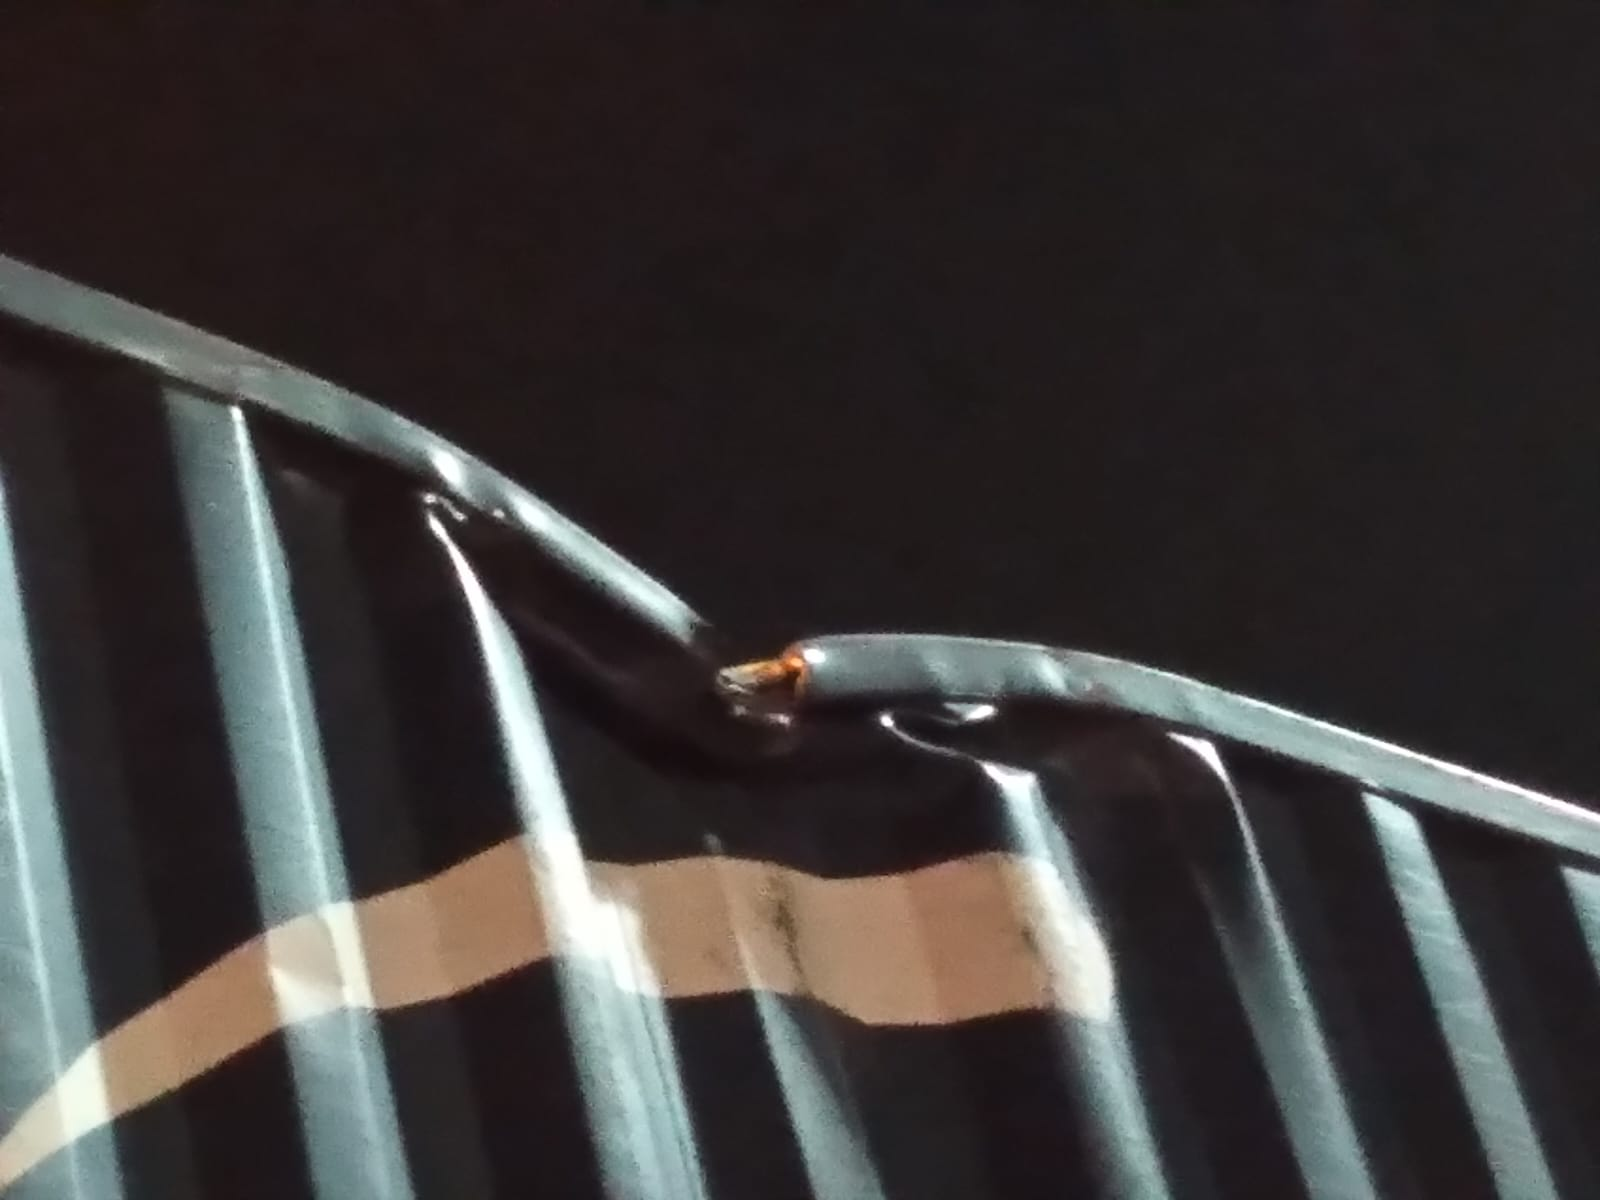severe: (462, 543, 1091, 863)
